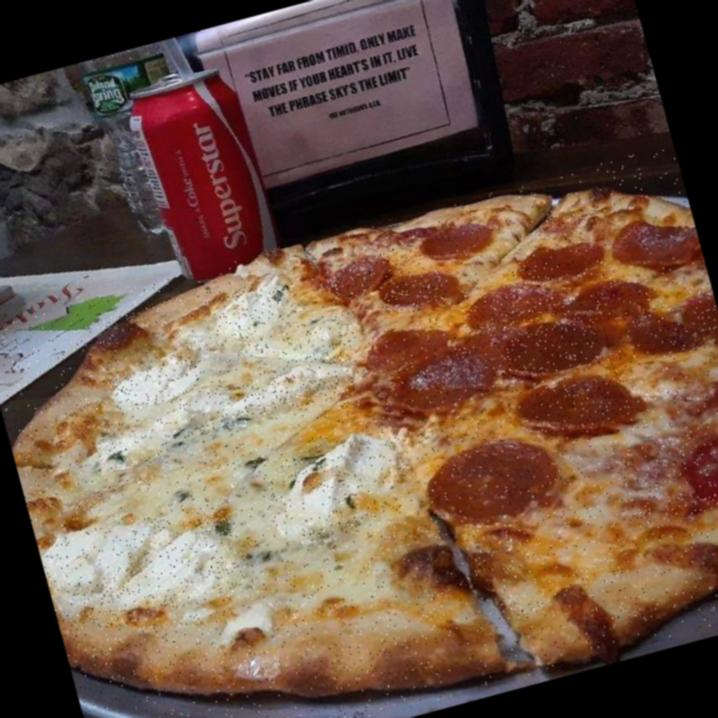Cheese: (37, 493, 252, 640), (264, 428, 414, 542), (91, 390, 235, 463), (224, 355, 357, 424), (242, 310, 360, 380), (208, 279, 294, 343), (106, 355, 202, 412), (218, 603, 276, 648)
Pepperoni: (415, 431, 560, 530), (506, 366, 643, 451), (613, 424, 718, 530), (384, 342, 495, 417), (492, 313, 604, 386), (622, 288, 718, 363), (608, 206, 704, 279), (460, 280, 562, 340), (560, 274, 658, 331), (361, 316, 457, 370), (516, 235, 603, 288), (417, 216, 496, 270), (325, 252, 396, 306), (660, 377, 718, 442), (379, 266, 456, 314)
Pizza: (0, 144, 718, 718)
